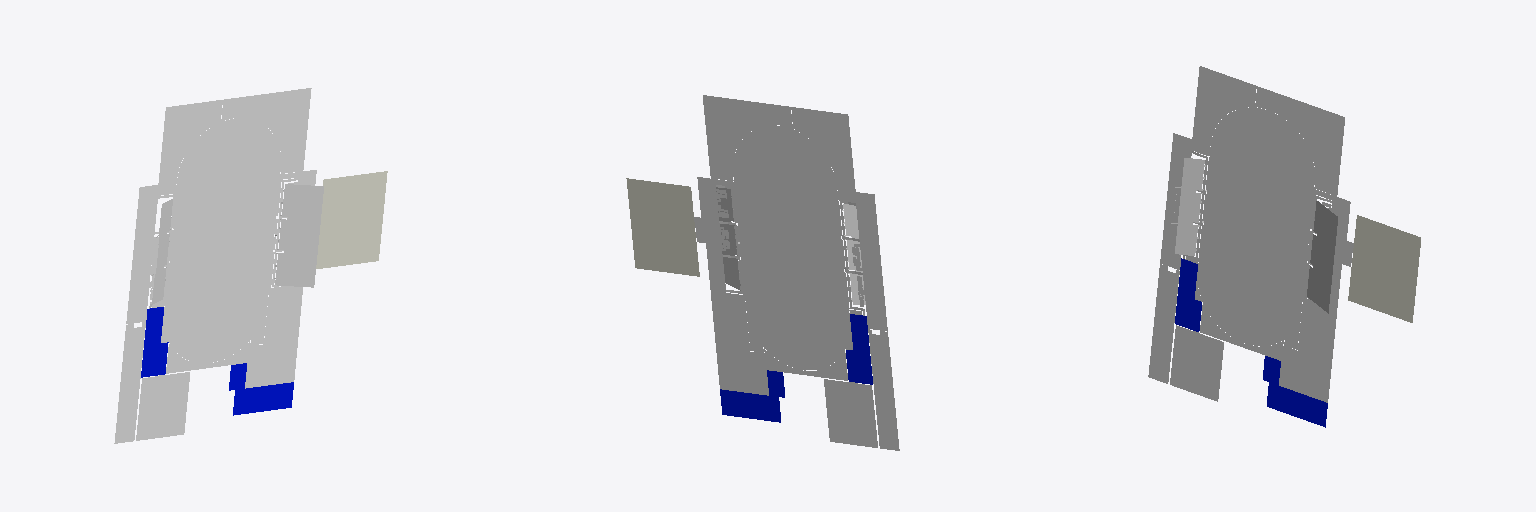
File: valley.obj
The picture shows the model from 3 angles: view 1: azimuth 30°, elevation 25°; view 2: azimuth 150°, elevation 25°; view 3: azimuth 330°, elevation 25°; orthographic projection.
Parts seen in each view (by area): view 1: Mesh1 Model; view 2: Mesh1 Model; view 3: Mesh1 Model.
Part boxes in pixels (bbox=[...]): Mesh1 Model: bbox=[114, 88, 387, 443]; Mesh1 Model: bbox=[626, 95, 899, 450]; Mesh1 Model: bbox=[1148, 66, 1420, 427].
Bounding box in the file's own units: 787 × 913 × 49.1.